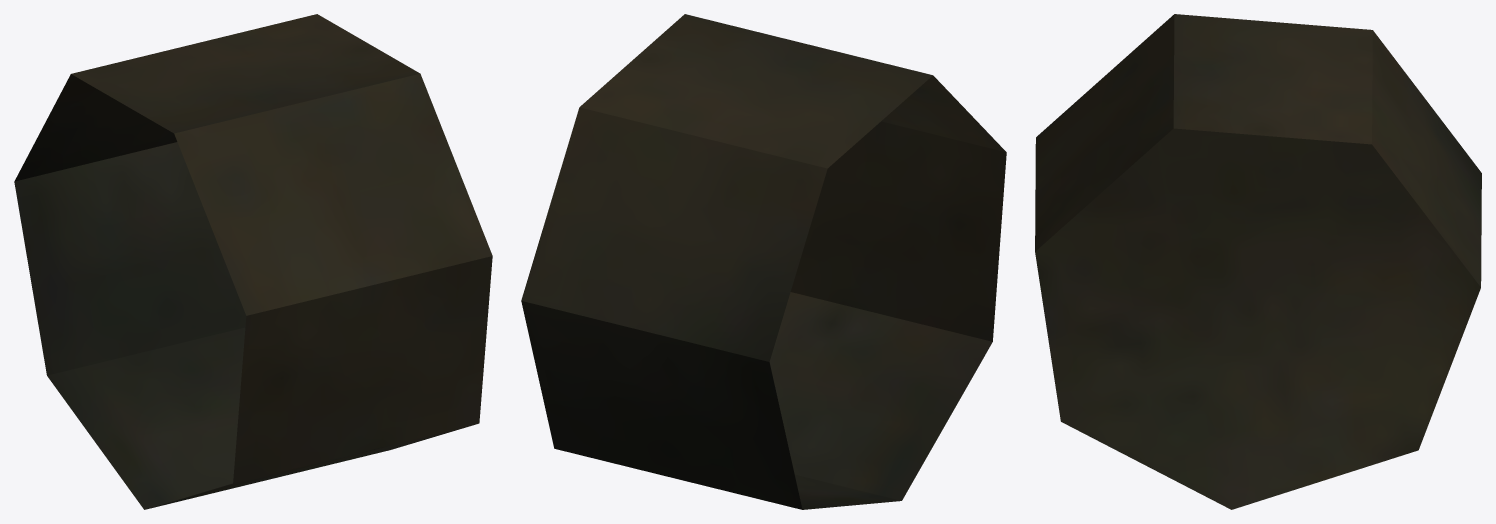
File: Roller.fbx
The picture shows the model from 3 angles, left to right: view 1: azimuth 30°, elevation 25°; view 2: azimuth 150°, elevation 25°; view 3: azimuth 270°, elevation 25°; orthographic projection. The views are drawn at different scales.
Visible parts, largest first — view 1: Roller; view 2: Roller; view 3: Roller.
Boxes of the visible parts, x1,y1,x2,y2 form: Roller: [14, 14, 492, 509]; Roller: [521, 14, 1006, 509]; Roller: [1035, 14, 1481, 509].
Size of the model in its own units: 0.1887 by 0.2911 by 0.3091.
